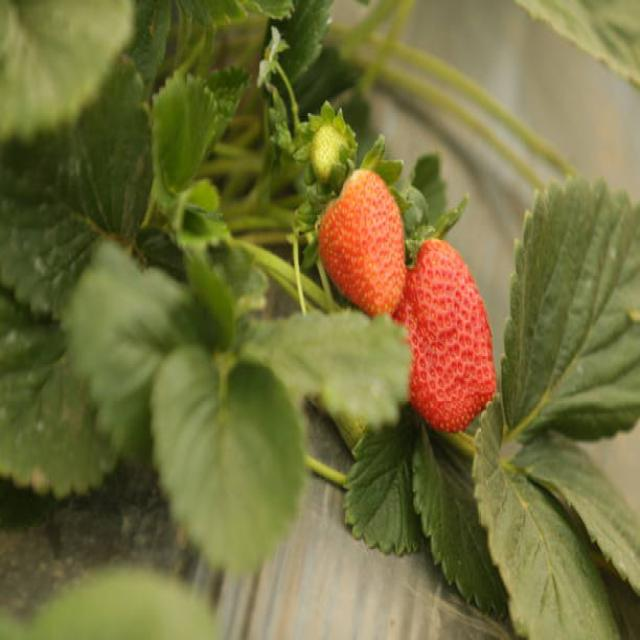Healthy Fruit: (390, 237, 496, 431), (316, 169, 407, 312)
